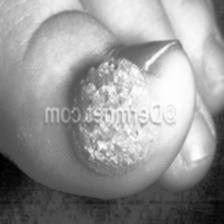Toxin: (71, 56, 153, 170)
